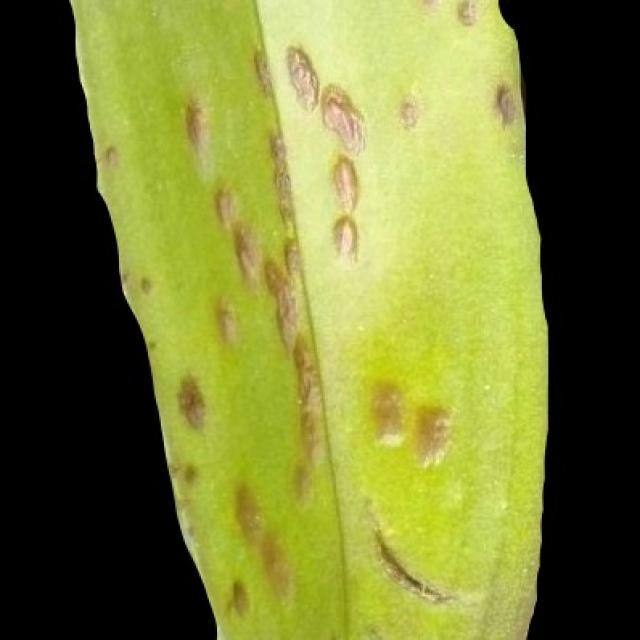mite: (169, 365, 468, 613), (170, 368, 458, 468), (367, 379, 405, 447), (283, 43, 320, 111), (230, 481, 264, 537), (330, 153, 360, 211), (330, 214, 360, 259), (225, 576, 251, 617), (166, 457, 199, 486), (453, 0, 478, 26)
spots: (55, 0, 552, 638)
